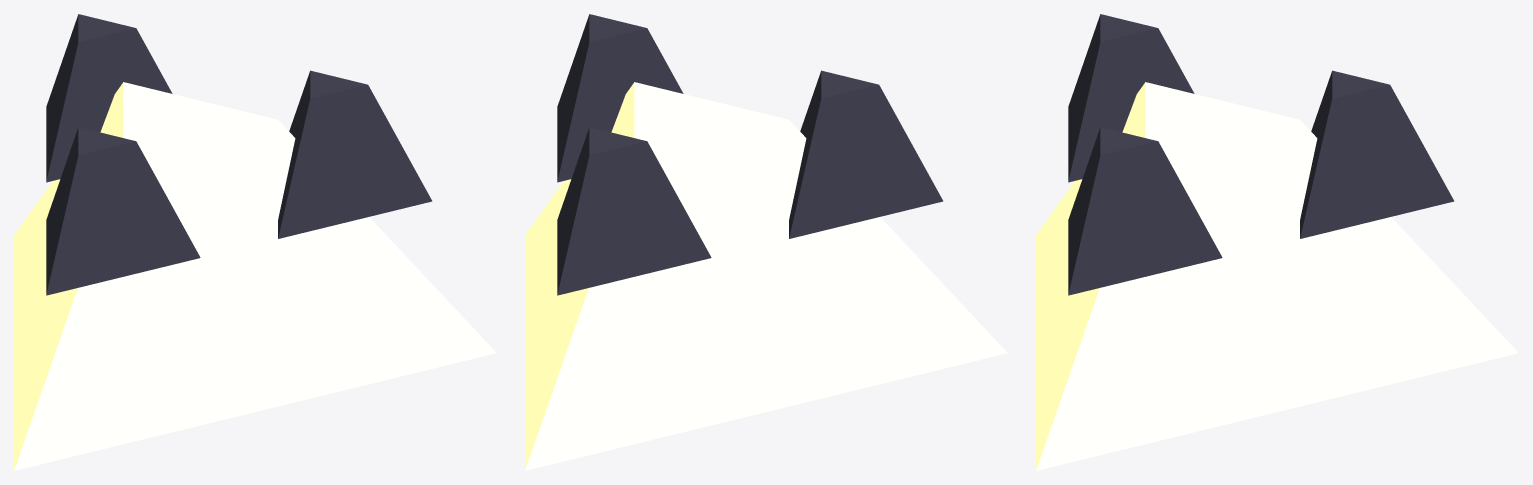
File: enemy_splitting.glb
3 renders of one model, left to right at view 1: azimuth 30°, elevation 25°; view 2: azimuth 150°, elevation 25°; view 3: azimuth 270°, elevation 25°, orthographic.
Parts seen in each view (by area): view 1: enemy_splitting; view 2: enemy_splitting; view 3: enemy_splitting.
Part boxes in pixels (x1,y1,x2,y2): enemy_splitting: (14, 14, 496, 470); enemy_splitting: (525, 14, 1007, 470); enemy_splitting: (1036, 14, 1518, 470).
Bounding box in the file's own units: 0.433 × 0.23 × 0.375.
